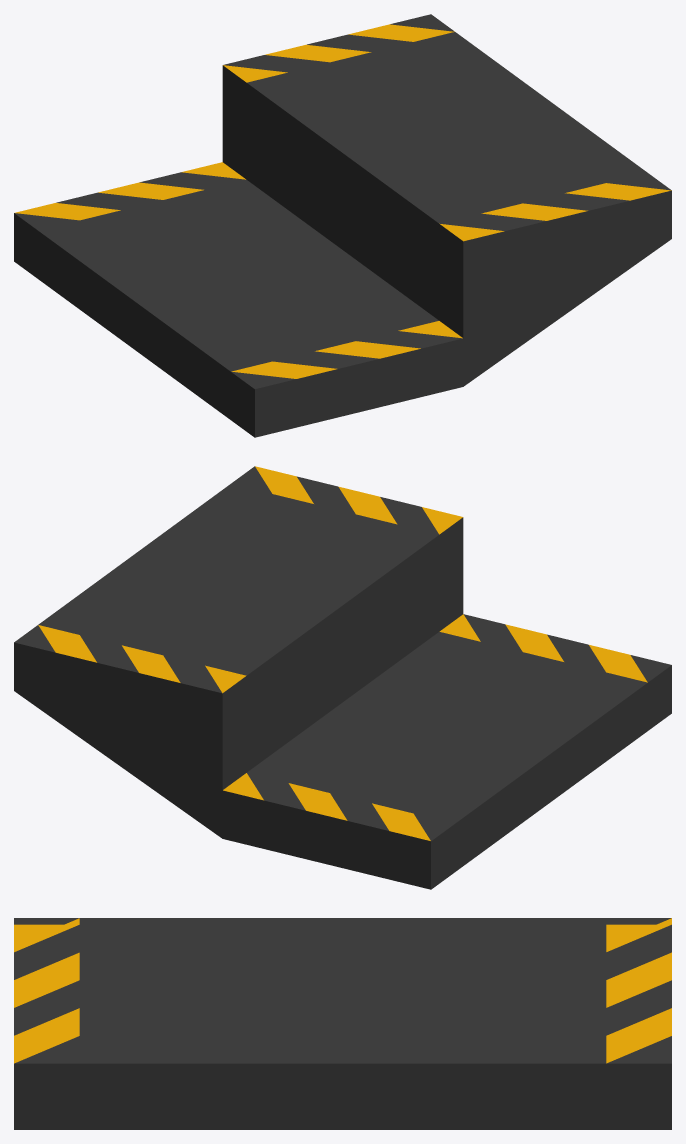
The picture shows the model from 3 angles, top to bottom: view 1: azimuth 30°, elevation 25°; view 2: azimuth 150°, elevation 25°; view 3: azimuth 270°, elevation 25°; orthographic projection. The views are drawn at different scales.
Parts seen in each view (by area): view 1: k2; view 2: k2; view 3: k2.
Part boxes in pixels (x1,y1,x2,y2): k2: (14, 14, 671, 437); k2: (14, 466, 671, 889); k2: (14, 918, 671, 1129).
Bounding box in the file's own units: 9 × 3 × 9.
